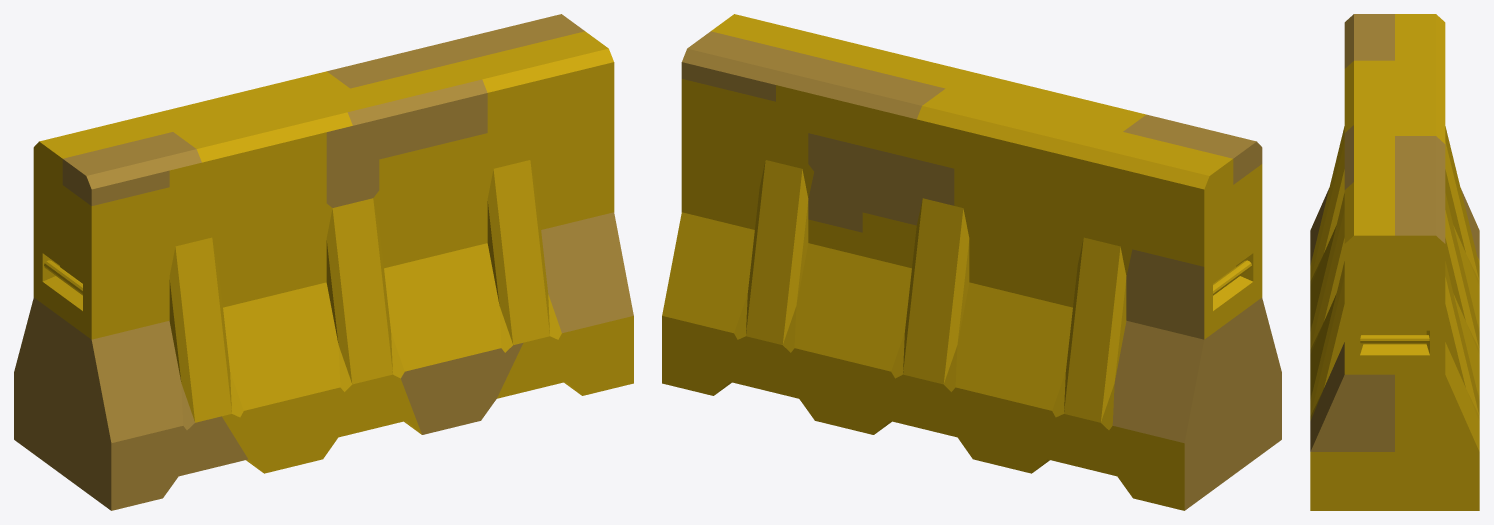
The model's file is quaternius-zombie-apocalypse-kit-march-plasticbarrier.glb.
3 renders of one model, left to right at view 1: azimuth 30°, elevation 25°; view 2: azimuth 150°, elevation 25°; view 3: azimuth 270°, elevation 25°, orthographic. The views are drawn at different scales.
Visible parts, largest first — view 1: PlasticBarrier; view 2: PlasticBarrier; view 3: PlasticBarrier.
Part boxes in pixels (box(x1,y1,x2,y2)): PlasticBarrier: box(14, 14, 633, 510); PlasticBarrier: box(662, 14, 1281, 510); PlasticBarrier: box(1310, 14, 1479, 510).
Size of the model in its own units: 1.04 by 0.5995 by 0.3339.
Materials: 1 (1 with a texture image).
